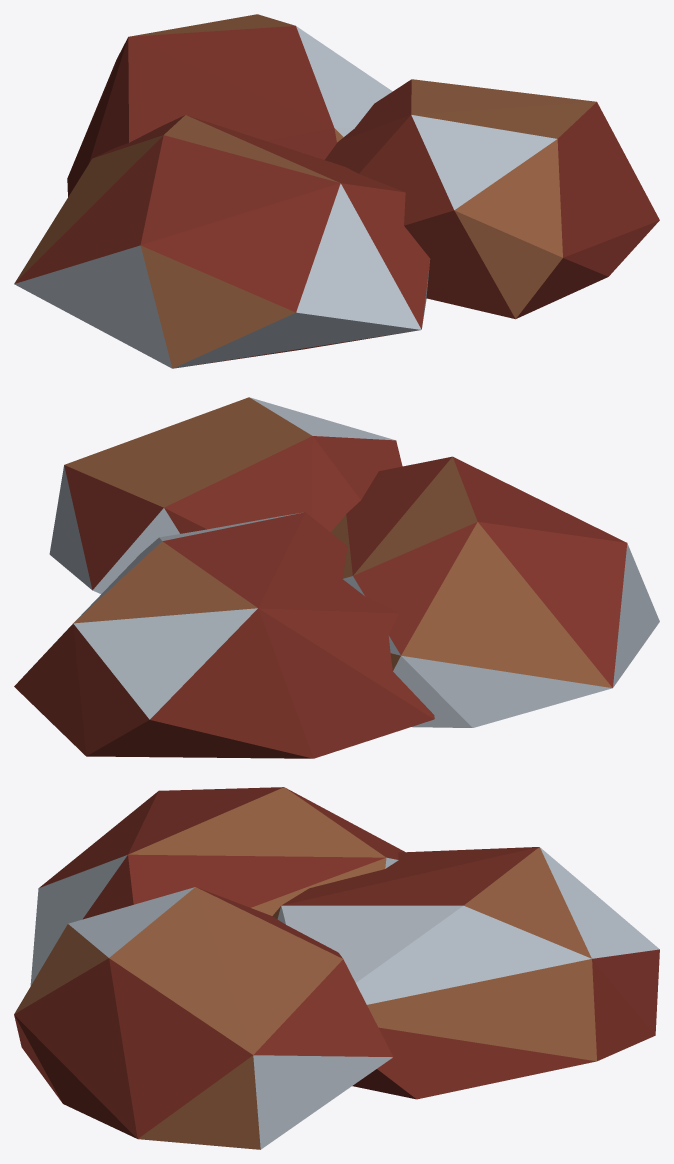
File: minerai_fer_2.glb
3 views of the same model, one above another, from view 1: azimuth 30°, elevation 25°; view 2: azimuth 150°, elevation 25°; view 3: azimuth 270°, elevation 25° (orthographic). The views are drawn at different scales.
Parts seen in each view (by area): view 1: minerai_hematite.004, minerai_rouille.004, minerai_fer_metal.004; view 2: minerai_hematite.004, minerai_rouille.004, minerai_fer_metal.004; view 3: minerai_hematite.004, minerai_rouille.004, minerai_fer_metal.004.
Part boxes in pixels (<box>): minerai_hematite.004: <box>14,26,659,367</box>; minerai_rouille.004: <box>14,14,596,368</box>; minerai_fer_metal.004: <box>14,26,556,368</box>; minerai_hematite.004: <box>14,436,627,758</box>; minerai_rouille.004: <box>64,397,612,688</box>; minerai_fer_metal.004: <box>49,397,659,727</box>; minerai_hematite.004: <box>14,787,659,1138</box>; minerai_rouille.004: <box>14,787,596,1149</box>; minerai_fer_metal.004: <box>30,847,659,1149</box>.
Bounding box in the file's own units: 0.5639 × 0.1392 × 0.5408.
